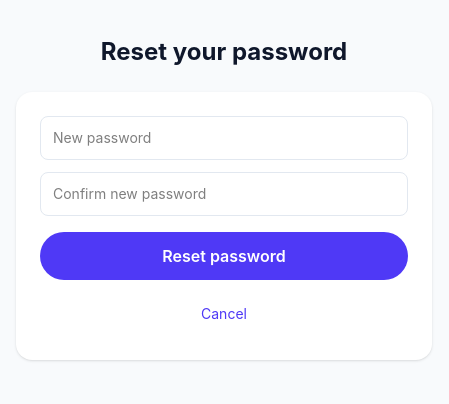
Test: ResetPasswordScreen › on an invalid/expired token, shows the backend's generic error and keeps the form usable for retry
Type "new-password-123" into the password field with placeholder "New password" at [224, 138], box [40,116,408,160]
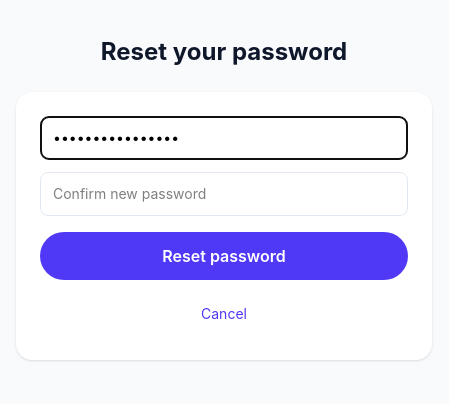
Type "new-password-123" into the password field with placeholder "Confirm new password" at [224, 194], box [40,172,408,216]
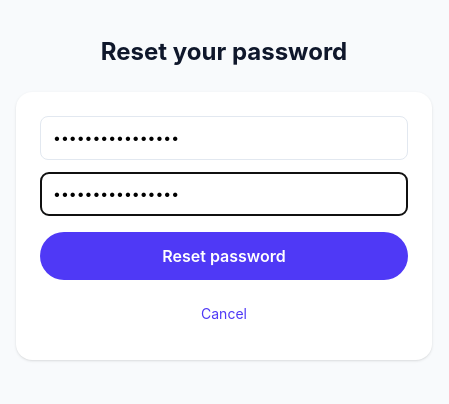
Click the button "Reset password" at [224, 256], box [40,232,408,280]
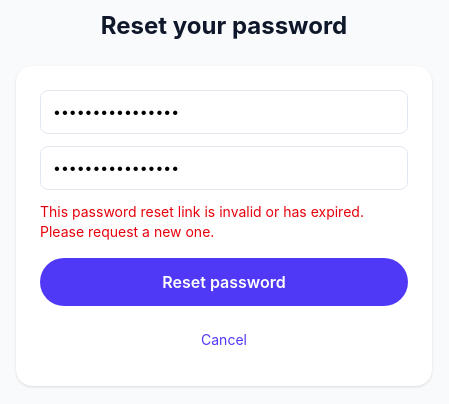
Result: the text "This password reset link is invalid or has expired. Please request a new one." is shown at [40,202,408,242]
